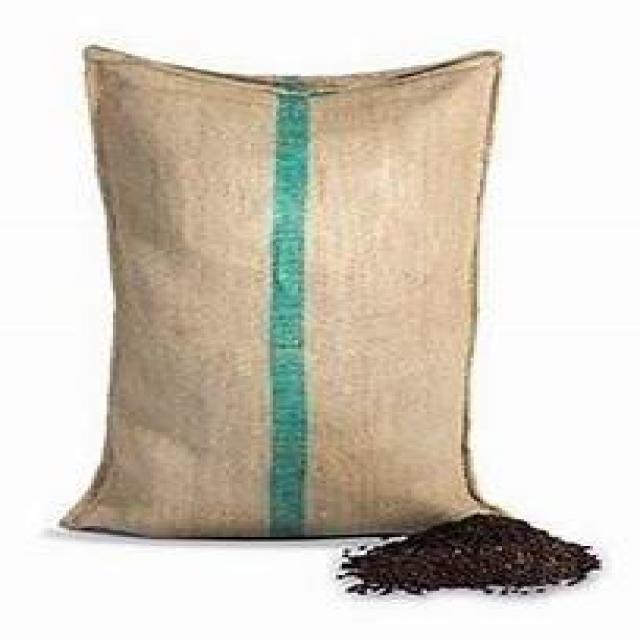gunny_bag: (49, 45, 511, 543)
